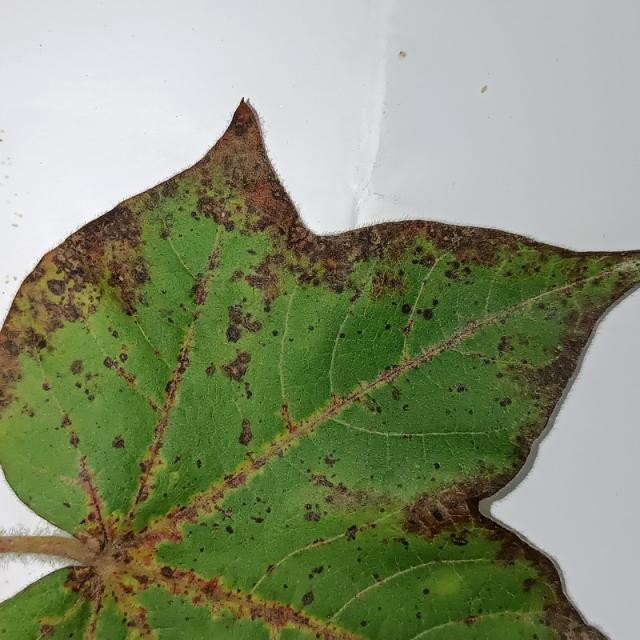Bacterial_Blight: (384, 221, 513, 272), (527, 321, 592, 406), (99, 236, 150, 306), (100, 348, 157, 404), (461, 485, 515, 539), (241, 434, 296, 476), (245, 179, 293, 227), (539, 606, 601, 637), (51, 248, 96, 289), (365, 264, 411, 296), (110, 523, 153, 555), (242, 261, 280, 295), (133, 525, 180, 552), (257, 603, 295, 631), (62, 566, 98, 594), (279, 396, 299, 437), (194, 355, 219, 380), (110, 430, 133, 456), (174, 503, 200, 523), (126, 611, 148, 631), (190, 454, 209, 477), (224, 470, 247, 489), (238, 418, 253, 446), (232, 116, 252, 137), (55, 251, 77, 270), (227, 304, 246, 325), (361, 395, 382, 414), (413, 251, 437, 267), (46, 278, 66, 296), (83, 534, 103, 552), (225, 323, 242, 343), (312, 474, 334, 488), (324, 256, 341, 273), (200, 582, 217, 598), (497, 336, 512, 354), (69, 359, 84, 375), (139, 458, 154, 474), (345, 524, 359, 541), (103, 356, 118, 371), (111, 549, 127, 563), (450, 534, 468, 546), (391, 386, 404, 402), (304, 510, 321, 522), (522, 577, 536, 591), (221, 218, 235, 232), (237, 351, 251, 365), (160, 565, 174, 578), (40, 623, 54, 636), (302, 591, 314, 606), (60, 414, 72, 428), (323, 455, 337, 467), (244, 381, 253, 399), (431, 509, 444, 521), (69, 434, 80, 448), (422, 308, 434, 320), (296, 238, 308, 250), (311, 565, 324, 575), (463, 616, 477, 625), (401, 303, 412, 314), (262, 301, 272, 313), (499, 398, 512, 407), (251, 515, 264, 523), (119, 352, 128, 363), (266, 563, 275, 574), (42, 381, 51, 391), (225, 525, 234, 534), (456, 385, 467, 392), (247, 248, 257, 255), (402, 403, 410, 411), (271, 329, 279, 337), (62, 501, 71, 508), (422, 588, 430, 595), (434, 462, 441, 470), (75, 381, 82, 389), (87, 394, 95, 401), (416, 612, 423, 620), (339, 332, 346, 339), (384, 323, 391, 330), (360, 620, 367, 627), (373, 573, 380, 580), (467, 408, 474, 415), (199, 547, 205, 553), (259, 340, 265, 346), (552, 306, 558, 312), (118, 275, 124, 281), (221, 211, 226, 218), (283, 583, 288, 589), (288, 337, 294, 342)
